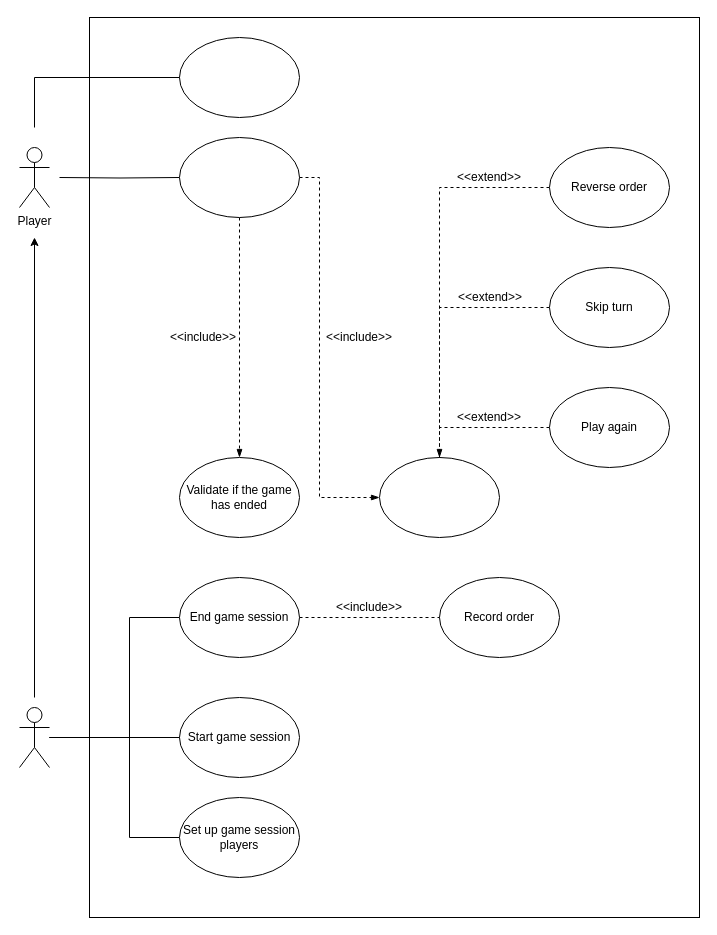
The diagram is 717 pixels wide and 935 high, and some of its shapes have lost their labels. The centre of each missing label's shape, as x and y in pixels:
Go to next player: the point at 239,177
Host: the point at 34,737
Register player: the point at 239,77
Set next player: the point at 439,497
